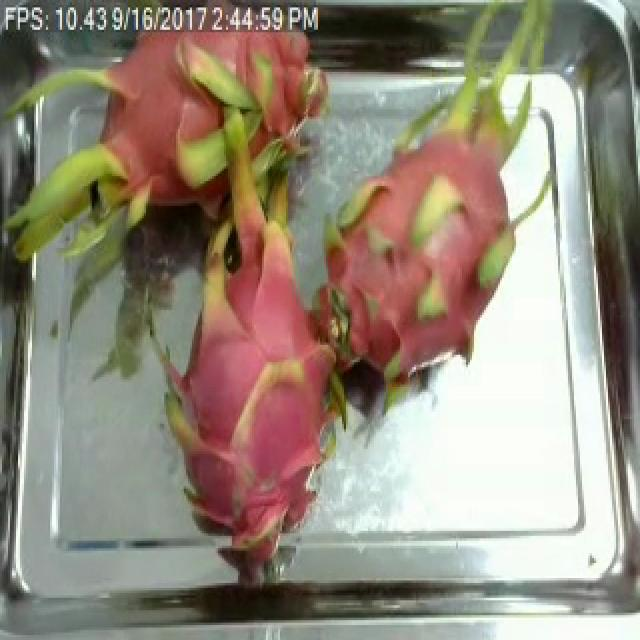Fruit: (78, 12, 256, 236)
